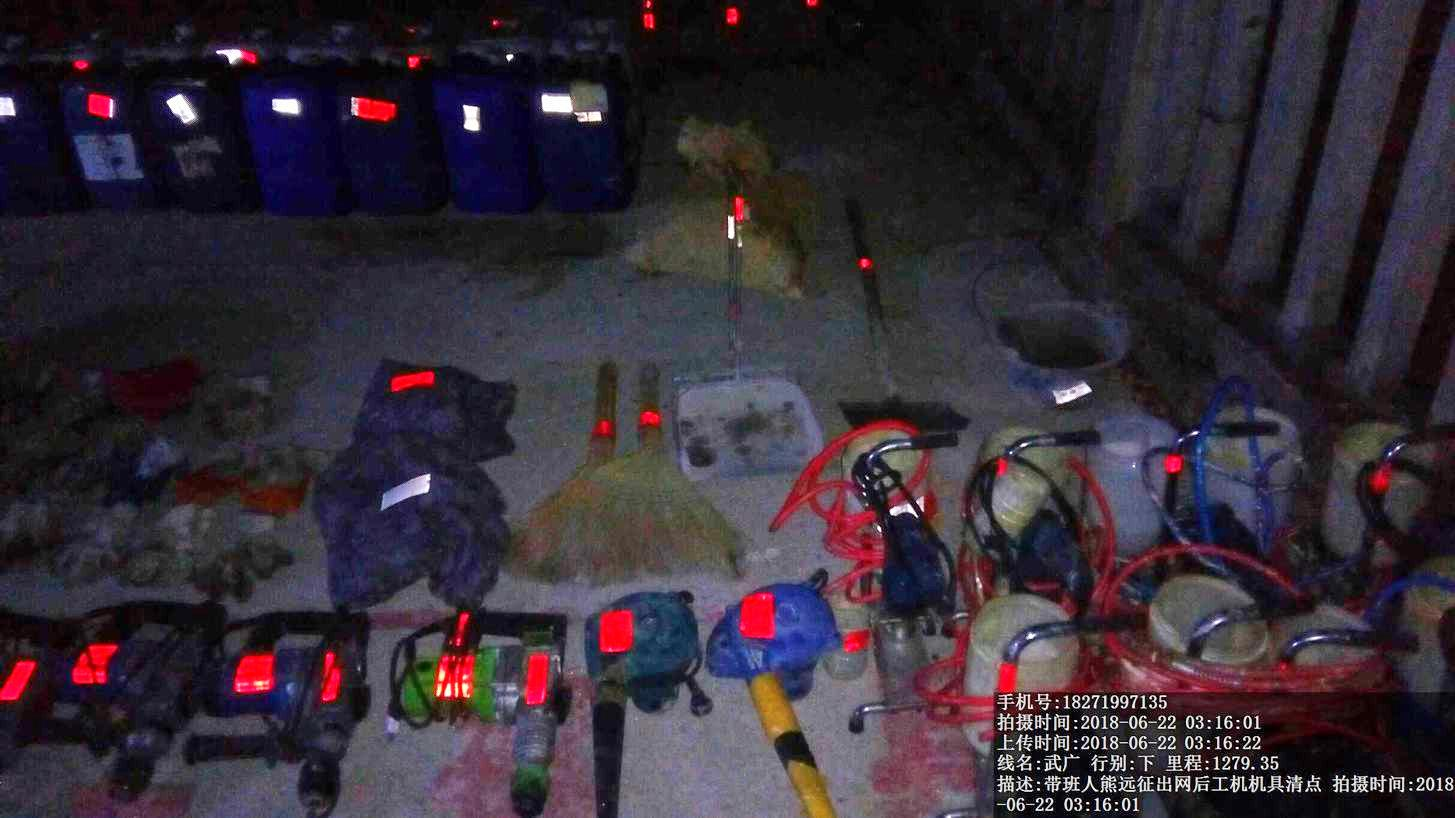DZ: (198, 607, 395, 812), (391, 617, 569, 798)
GFJ: (711, 590, 847, 795), (576, 598, 709, 794)
GJB: (314, 330, 519, 601)
SB: (533, 348, 728, 586)
